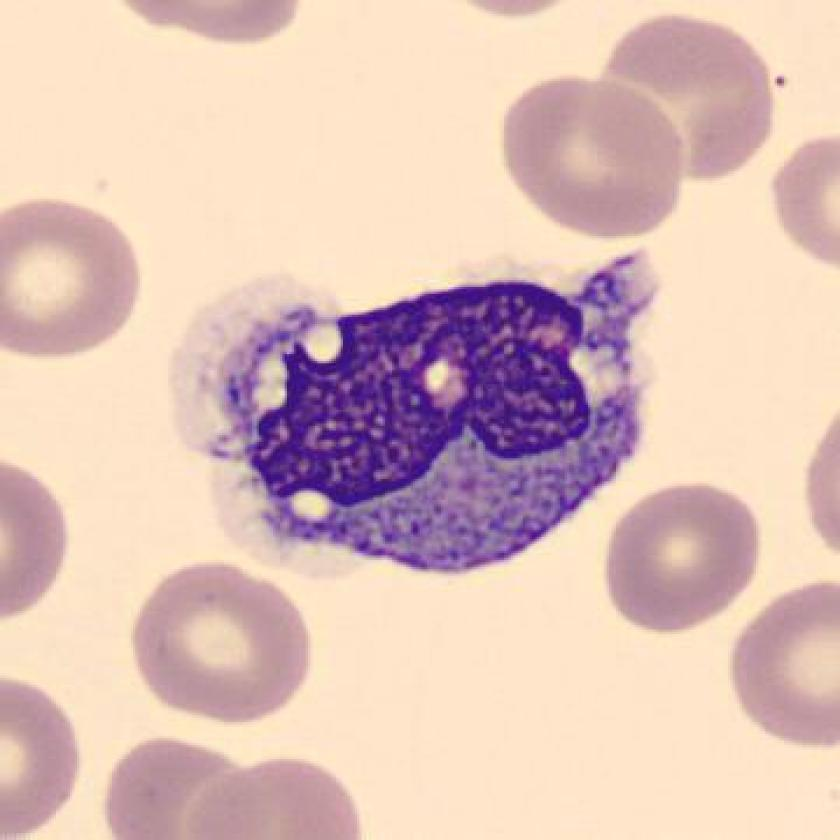monocyte: (164, 226, 678, 594)
